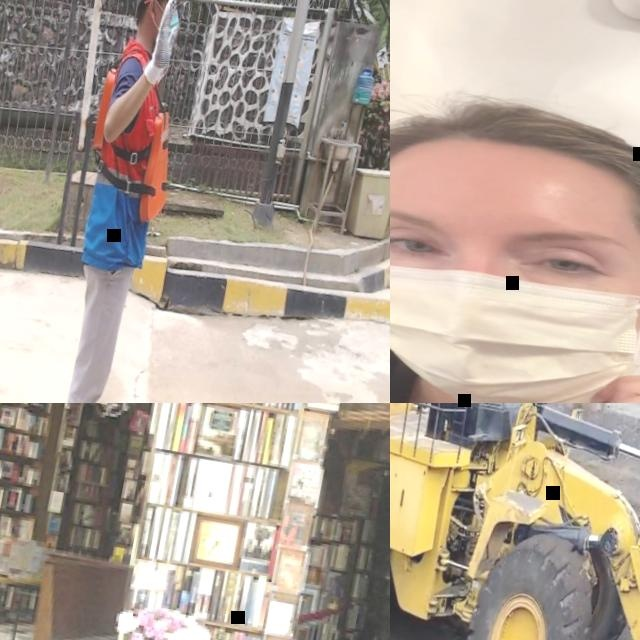Mask: (390, 243, 640, 403), (148, 1, 185, 39)
NO-Hardhat: (390, 91, 640, 228)
Person: (390, 55, 640, 403), (21, 0, 208, 403)
Safety Vest: (77, 64, 193, 227)
machinery: (390, 403, 640, 640)
